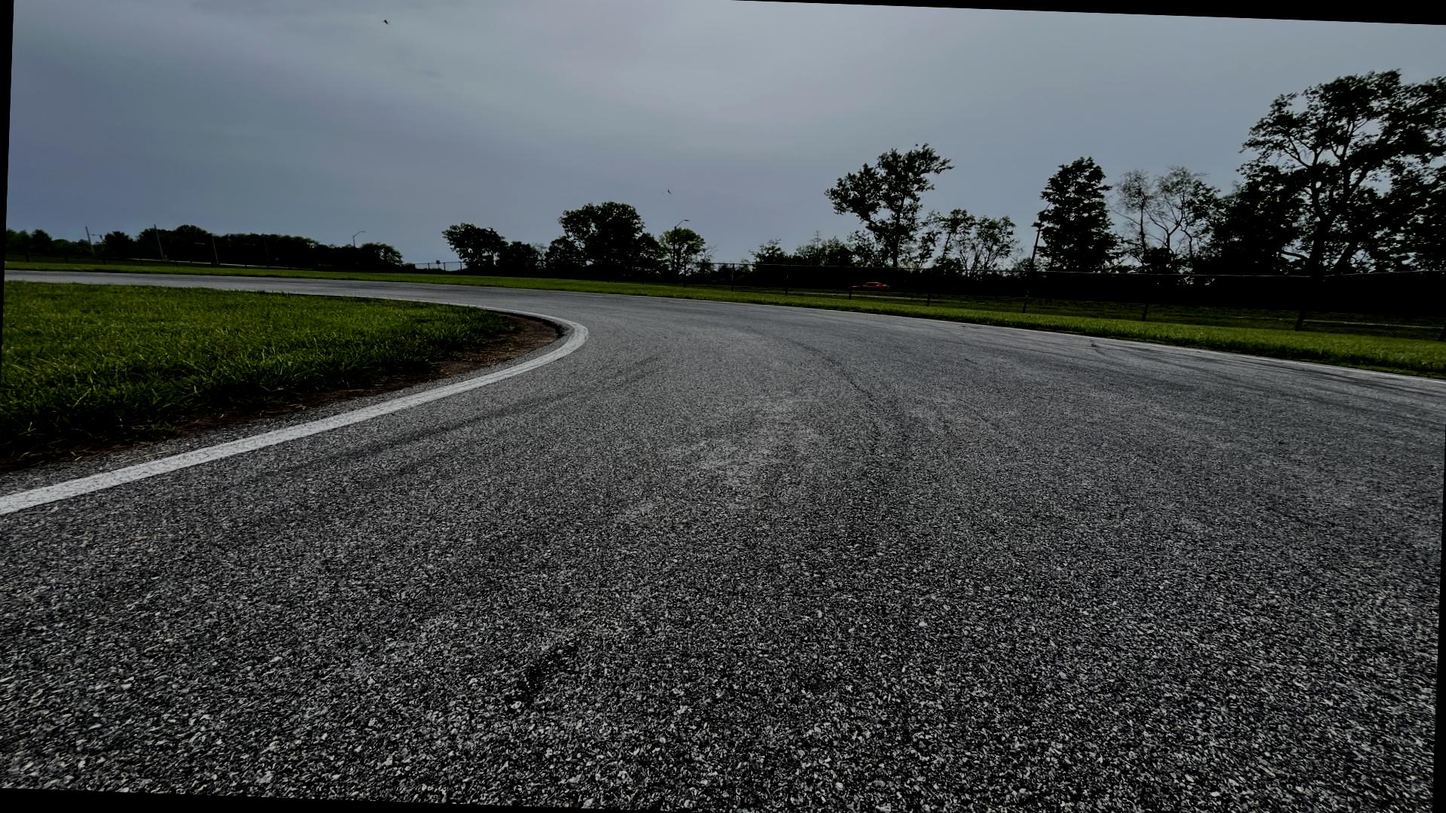white-line: (0, 287, 595, 518), (413, 284, 1445, 384)
